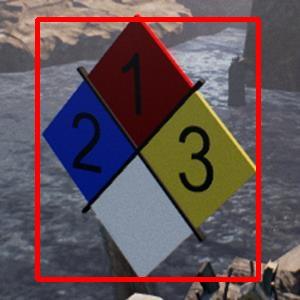nfpa: (37, 19, 258, 279)
